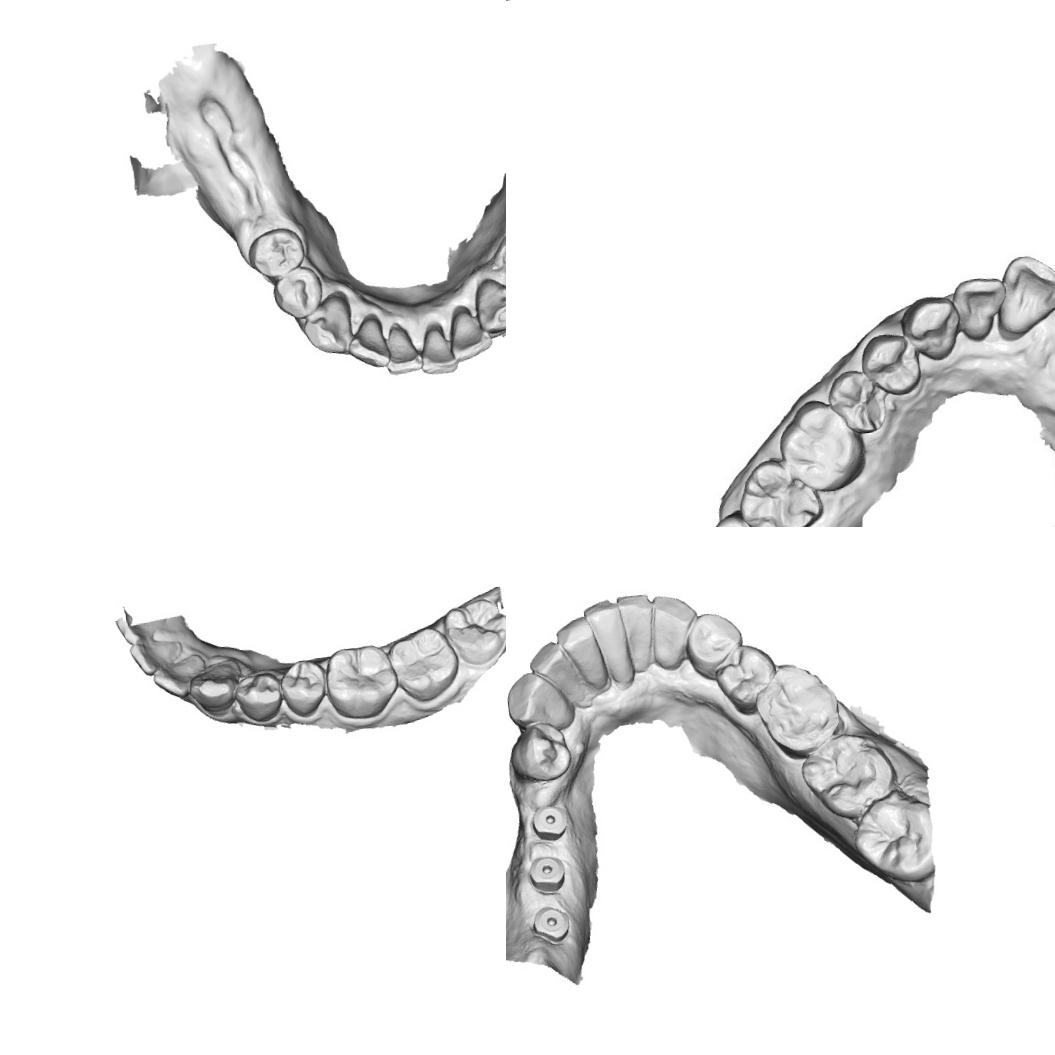canine: (506, 666, 579, 738), (645, 589, 702, 670), (900, 293, 962, 364), (298, 288, 358, 360), (186, 657, 245, 720), (470, 272, 506, 338)
implant: (528, 900, 574, 946), (526, 852, 570, 896), (528, 801, 574, 843)
incisor: (992, 250, 1055, 329), (952, 268, 1012, 346), (550, 612, 607, 676), (442, 304, 496, 366), (579, 594, 629, 658), (344, 310, 394, 372), (524, 638, 581, 690), (150, 652, 209, 702), (614, 587, 658, 649), (381, 322, 427, 378), (416, 324, 462, 378), (127, 637, 185, 678)
molar: (748, 655, 850, 764), (842, 785, 944, 891), (792, 726, 900, 826), (776, 393, 866, 498), (731, 452, 822, 527), (384, 622, 462, 704), (322, 642, 402, 721), (440, 595, 506, 669), (703, 508, 788, 527)
premolar: (710, 638, 784, 718), (506, 716, 578, 788), (678, 609, 748, 682), (826, 366, 890, 432), (242, 222, 312, 282), (268, 262, 328, 324), (865, 333, 920, 392), (277, 657, 329, 718), (232, 670, 286, 726)
